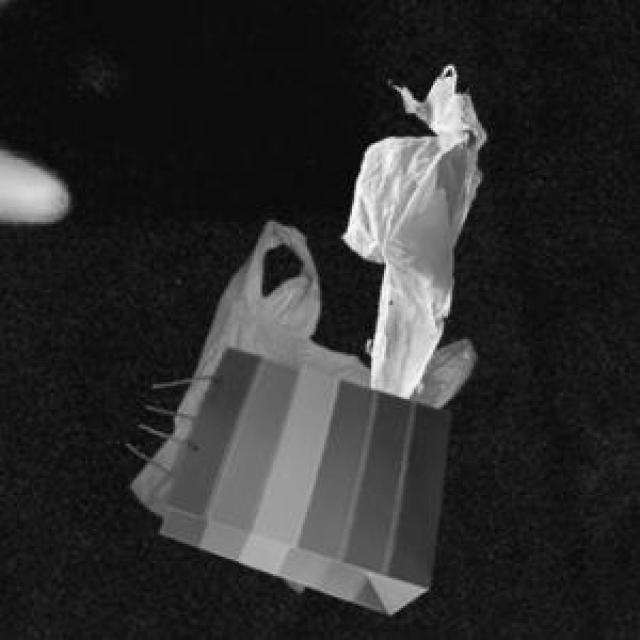paper: (156, 344, 448, 610)
